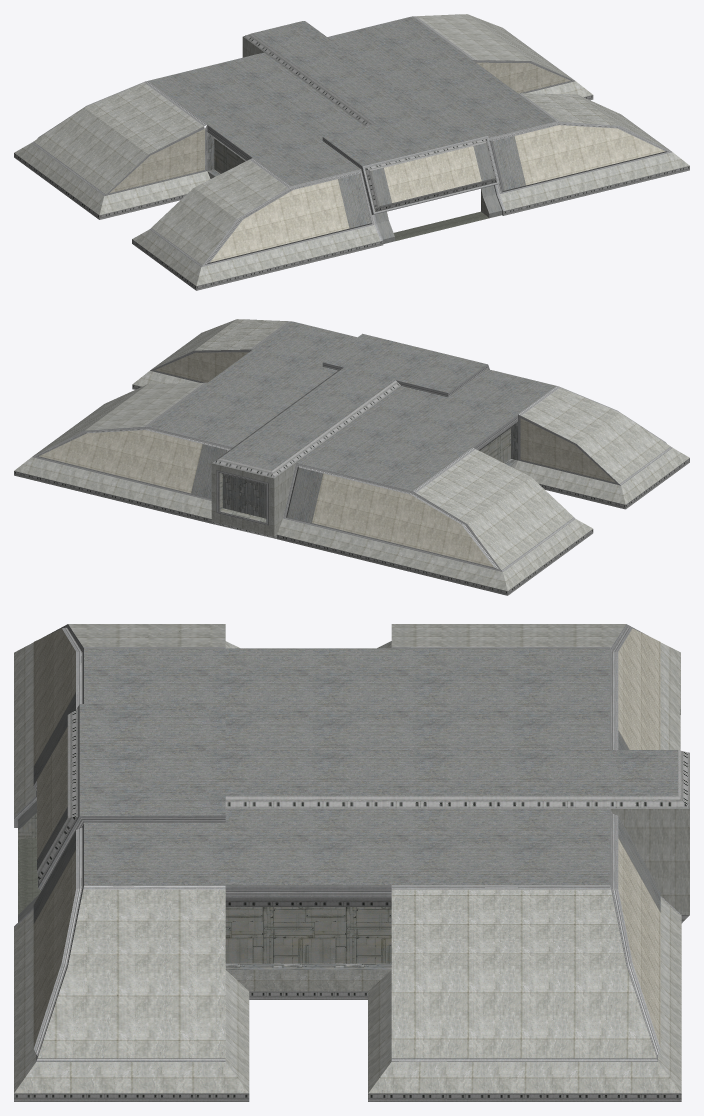
Rendered from mun_corl_cloning_s01_r0_mesh_l0.fbx.
3 views of the same model, one above another, from view 1: azimuth 30°, elevation 25°; view 2: azimuth 150°, elevation 25°; view 3: azimuth 270°, elevation 25° (orthographic). The views are drawn at different scales.
Parts seen in each view (by area): view 1: mesh_node; view 2: mesh_node; view 3: mesh_node.
Part boxes in pixels (<box>): mesh_node: <box>14,14,689,290</box>; mesh_node: <box>14,319,689,595</box>; mesh_node: <box>14,624,689,1101</box>.
Bounding box in the file's own units: 62.92 × 8.14 × 40.77.
